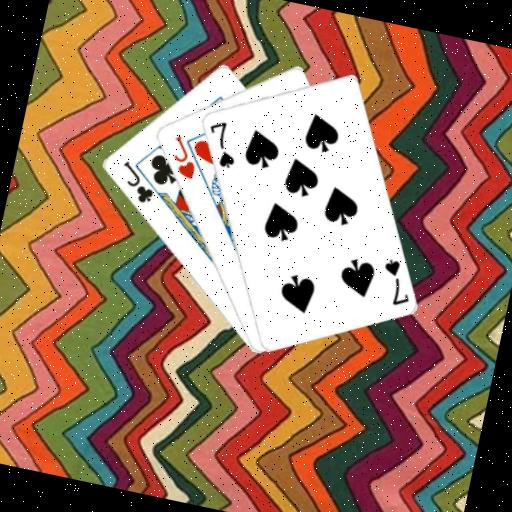7S: (198, 115, 244, 171), (372, 253, 418, 309)
JC: (112, 156, 160, 206)
JH: (164, 131, 203, 181)
